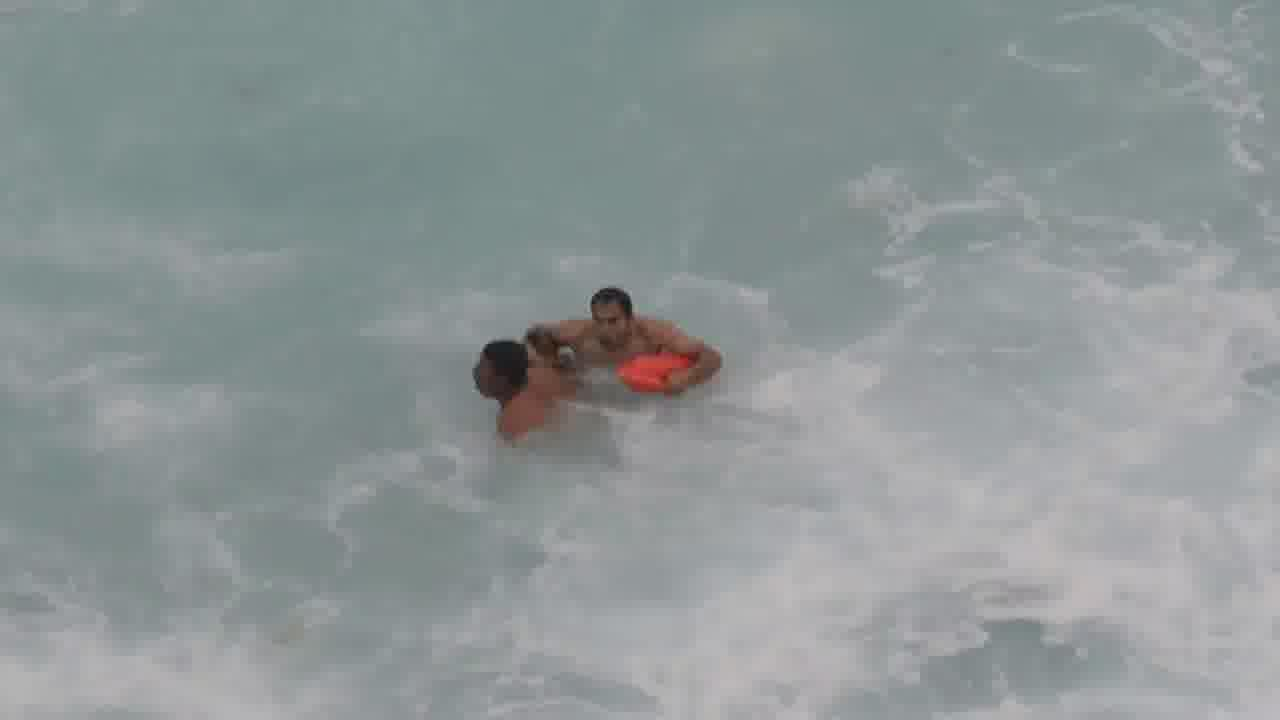human: (446, 328, 555, 425), (575, 266, 648, 366)
